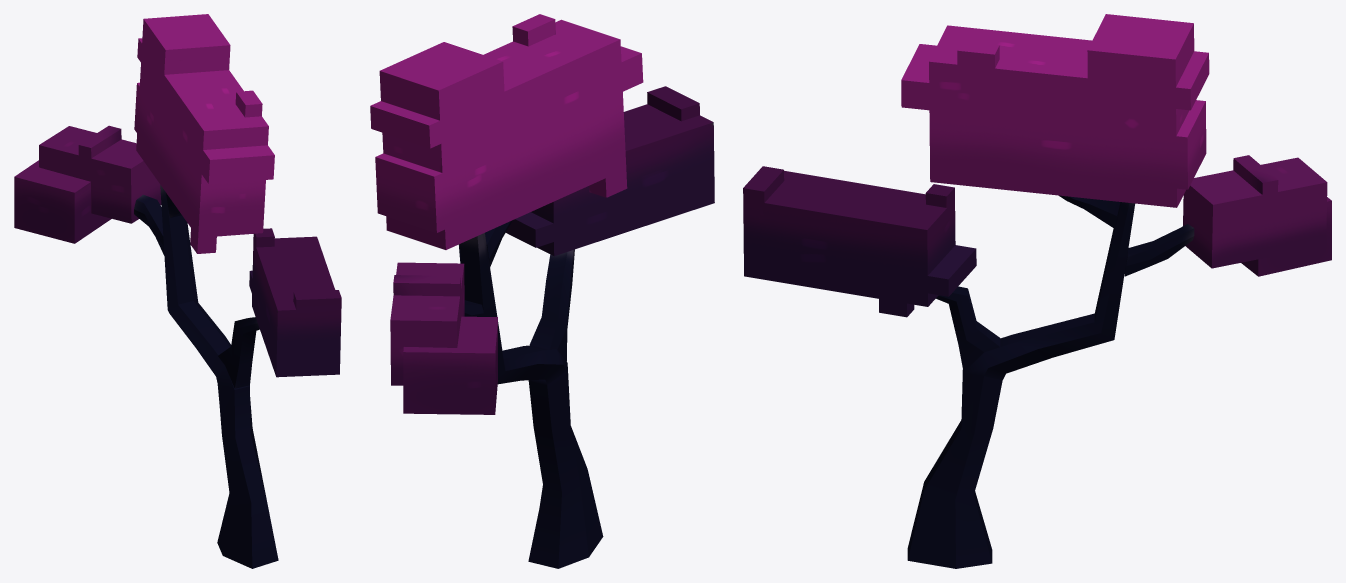
The model's file is SakuraB.fbx.
The picture shows the model from 3 angles, left to right: view 1: azimuth 30°, elevation 25°; view 2: azimuth 150°, elevation 25°; view 3: azimuth 270°, elevation 25°; orthographic projection. The views are drawn at different scales.
Visible parts, largest first — view 1: Mini_2_tronco_arvore_3; view 2: Mini_2_tronco_arvore_3; view 3: Mini_2_tronco_arvore_3.
Part boxes in pixels (bbox=[...]): Mini_2_tronco_arvore_3: bbox=[14, 14, 341, 568]; Mini_2_tronco_arvore_3: bbox=[370, 14, 714, 568]; Mini_2_tronco_arvore_3: bbox=[743, 14, 1331, 568].
Bounding box in the file's own units: 2.61 × 7.47 × 7.47.
